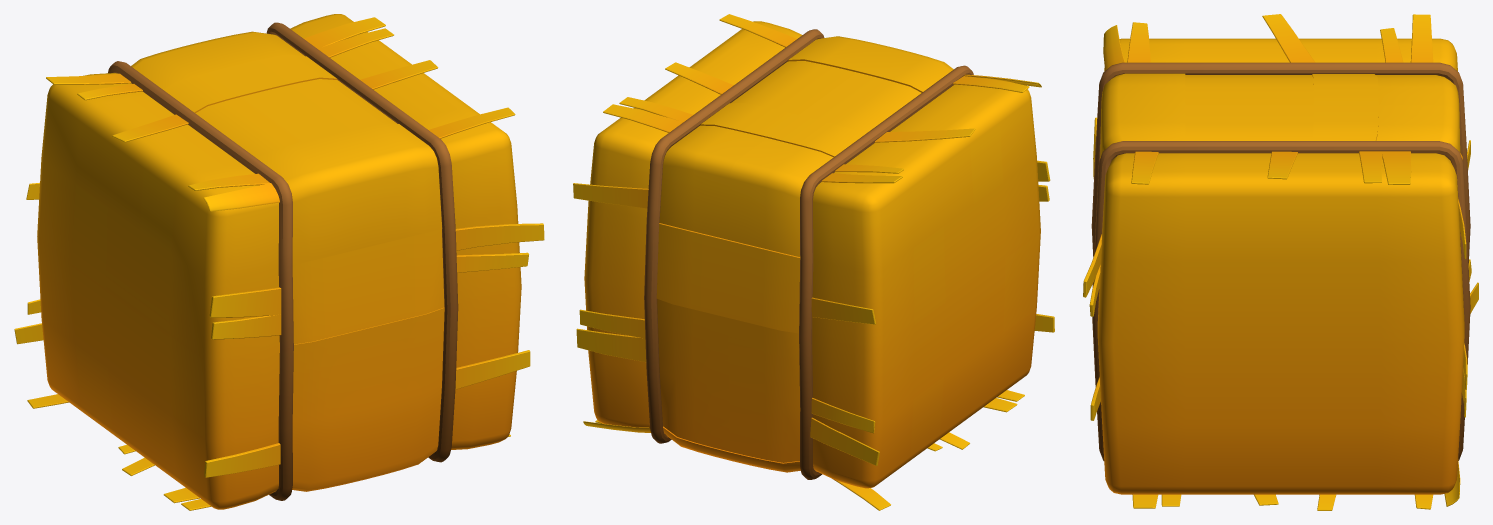
File: Eno V2.fbx
3 renders of one model, left to right at view 1: azimuth 30°, elevation 25°; view 2: azimuth 150°, elevation 25°; view 3: azimuth 270°, elevation 25°, orthographic. The views are drawn at different scales.
Visible parts, largest first — view 1: Cube; view 2: Cube; view 3: Cube.
Part boxes in pixels (left/top/right/bottom): Cube: left=14, top=14, right=544, bottom=510; Cube: left=573, top=14, right=1054, bottom=510; Cube: left=1083, top=14, right=1478, bottom=510.
Bounding box in the file's own units: 1.11 × 1.11 × 1.07.
